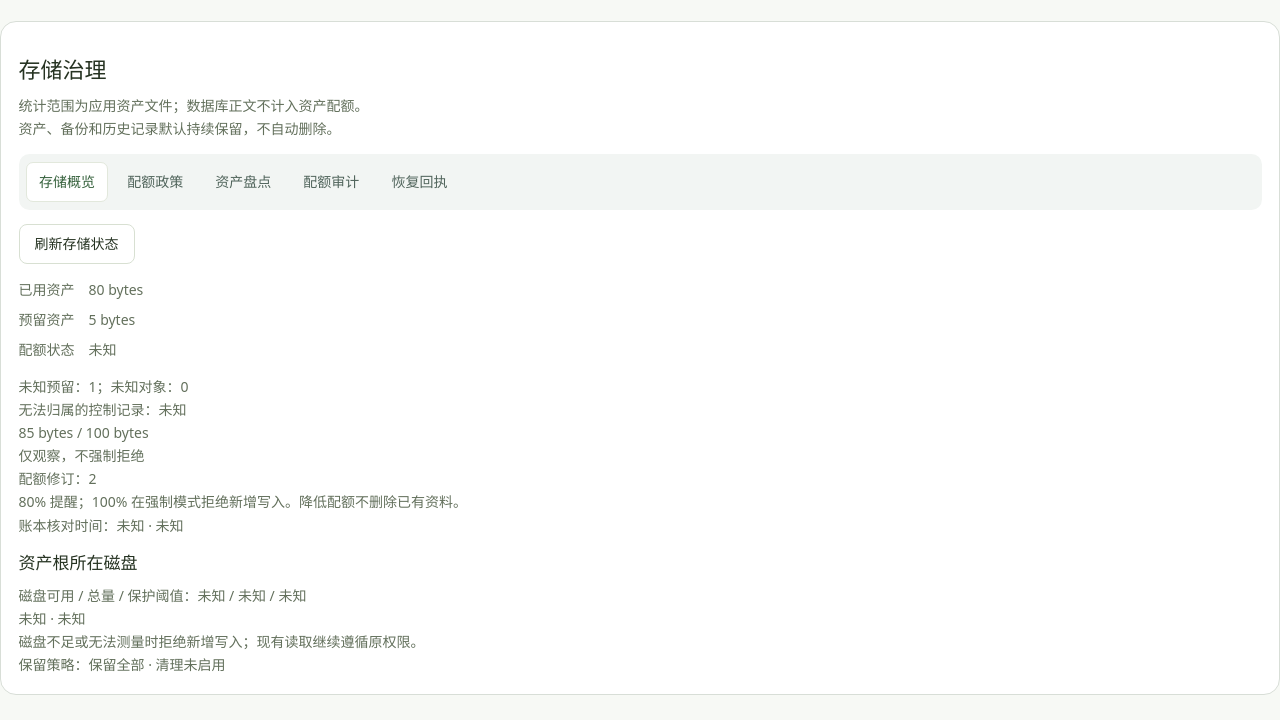
Test: layers admin storage and only requests audit and recovery when selected
Check: the text "85 bytes / 100 bytes" is shown, box top-left (18, 423), bottom-right (149, 442)
Check: the navigation bar named "存储工作视图" is shown, box top-left (18, 154), bottom-right (1262, 210)
Click the button "配额政策".
click(155, 182)  # box top-left (114, 162), bottom-right (196, 202)
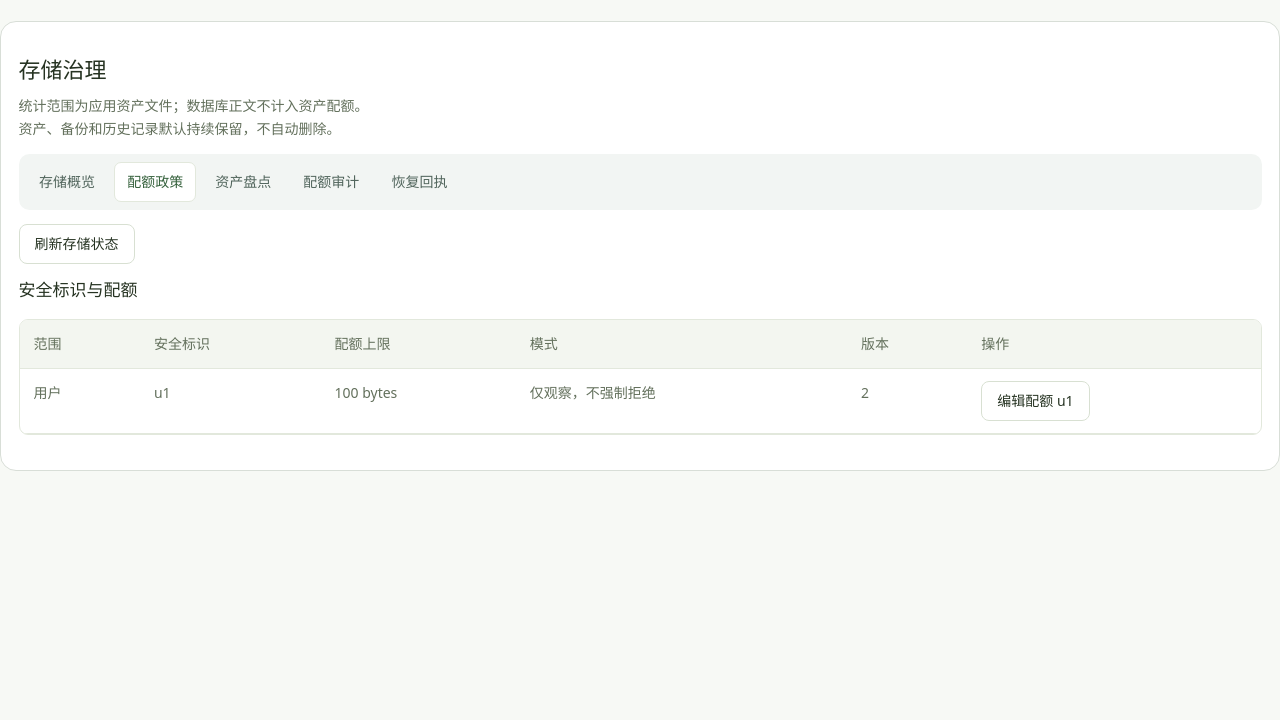
Check: the button "编辑配额 u1" is shown, box top-left (981, 380), bottom-right (1090, 420)
Click the button "配额审计".
click(331, 182)  # box top-left (290, 162), bottom-right (372, 202)
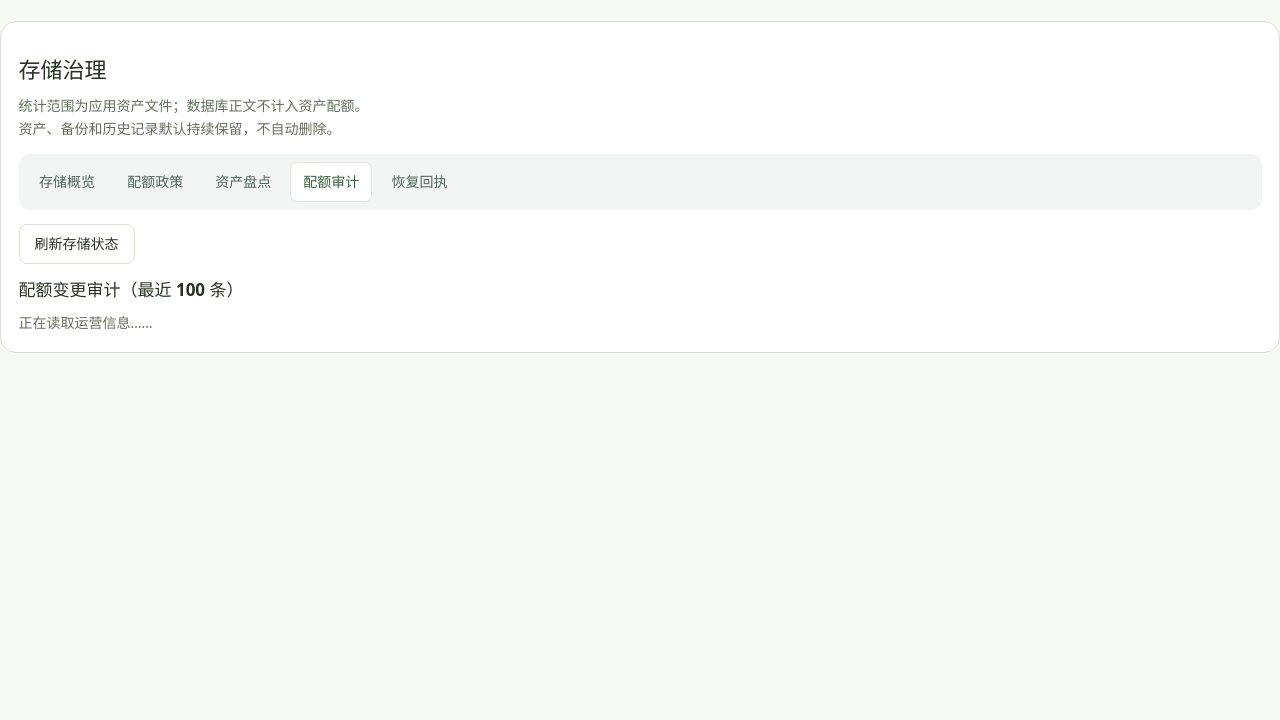
Click the button "恢复回执".
click(419, 182)  # box top-left (378, 162), bottom-right (460, 202)
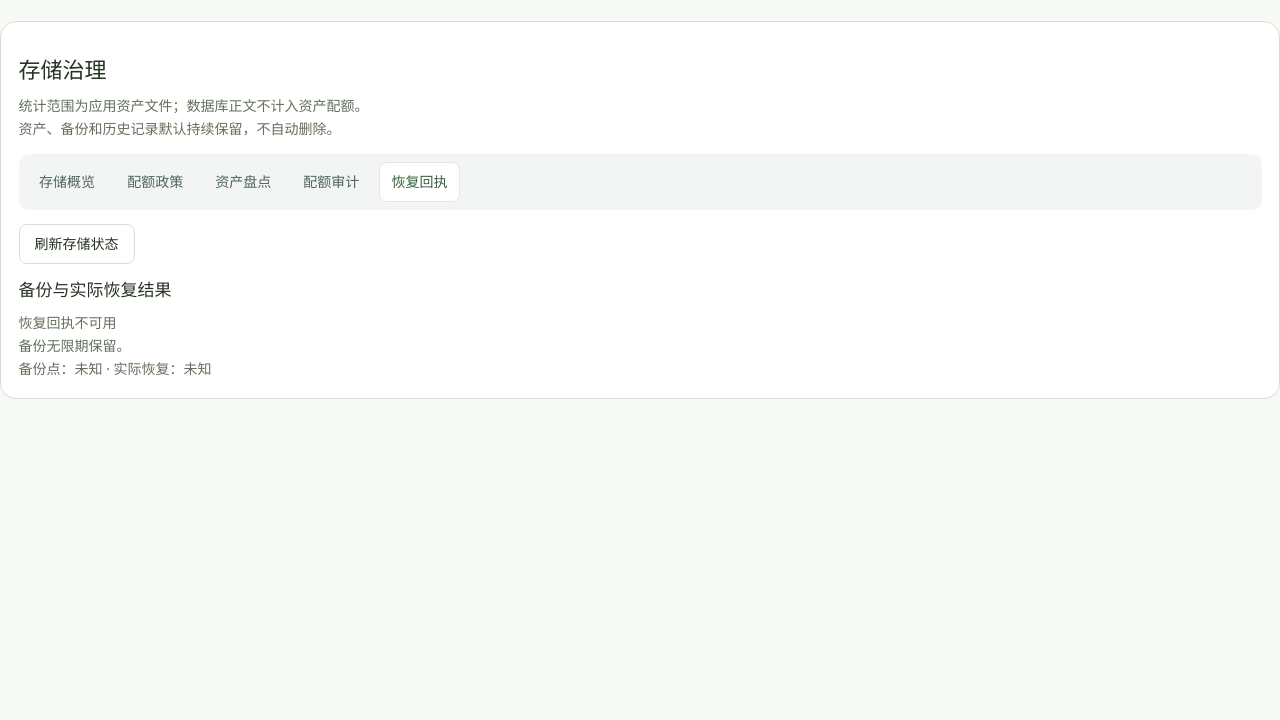
Check: the text "恢复回执不可用" is shown, box top-left (18, 313), bottom-right (116, 332)
